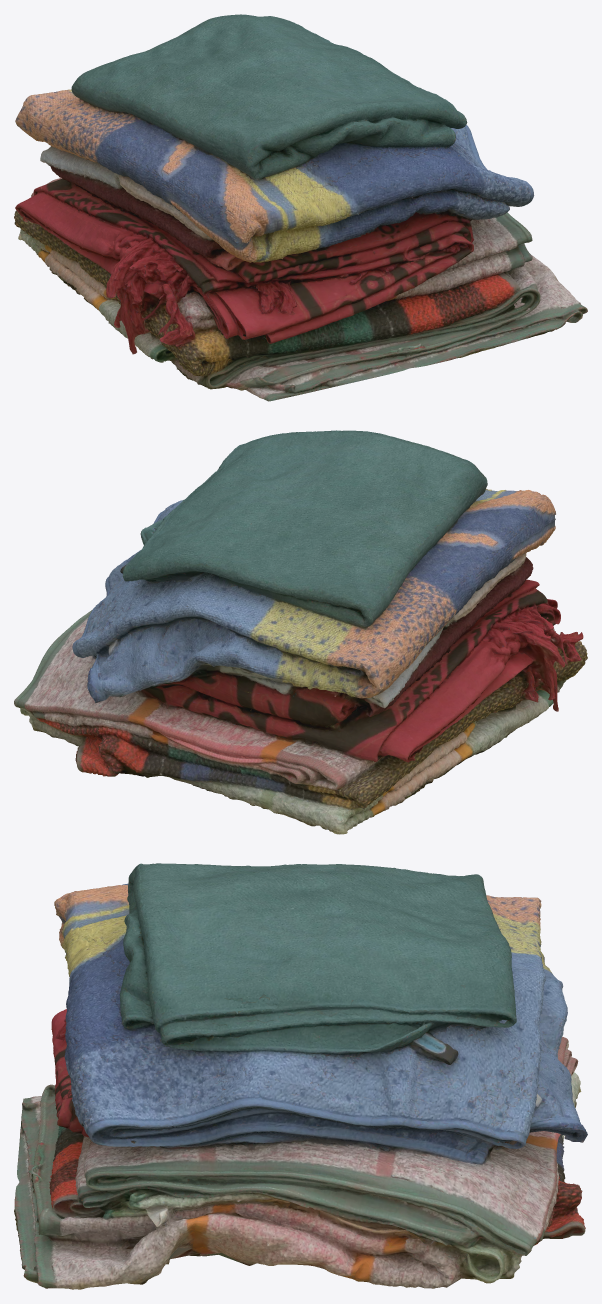
File: sf-towel-stack-56ebf3.glb
3 views of the same model, one above another, from view 1: azimuth 30°, elevation 25°; view 2: azimuth 150°, elevation 25°; view 3: azimuth 270°, elevation 25° (orthographic). The views are drawn at different scales.
Parts seen in each view (by area): view 1: towel-stack_towel-stack_u1_v1_0; view 2: towel-stack_towel-stack_u1_v1_0; view 3: towel-stack_towel-stack_u1_v1_0.
Part boxes in pixels (box(x1,y1,x2,y2)): towel-stack_towel-stack_u1_v1_0: box(14, 14, 587, 401); towel-stack_towel-stack_u1_v1_0: box(14, 430, 587, 834); towel-stack_towel-stack_u1_v1_0: box(14, 863, 587, 1289).
Size of the model in its own units: 10.73 by 5.57 by 10.76.
Materials: 1 (1 with a texture image).
